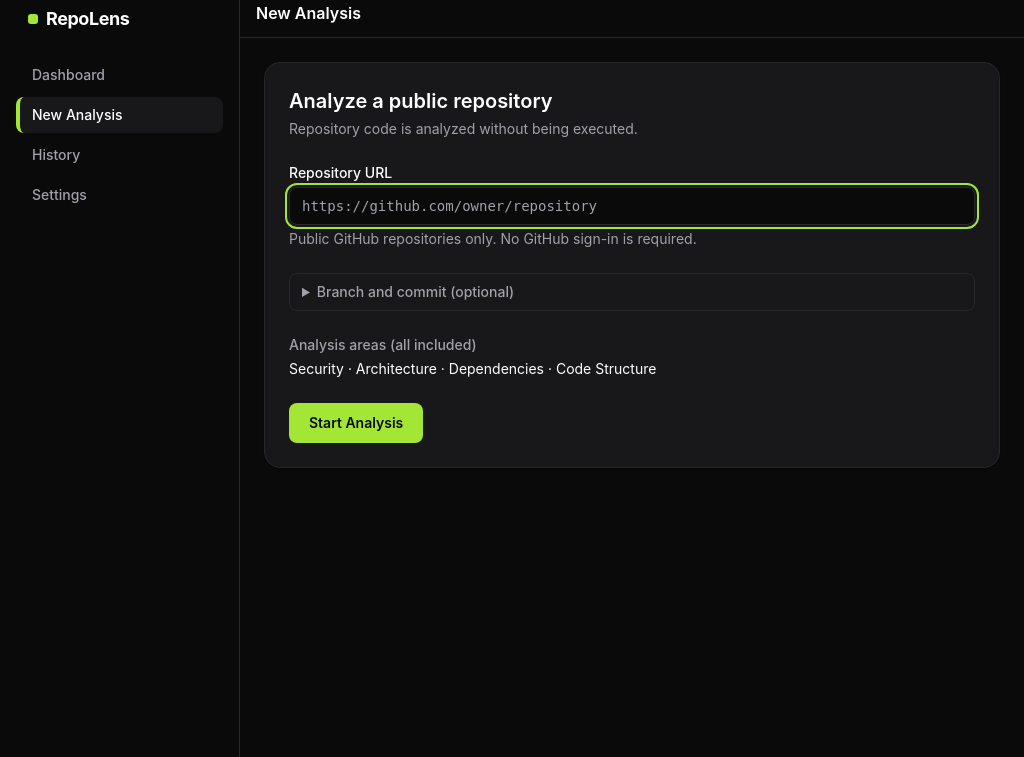
Test: New Analysis form › navigates to the returned analysis id and shows the live terminal
Type "https://github.com/acme/web" into the field labelled "Repository URL" at (632, 206), box [289,187,975,225]
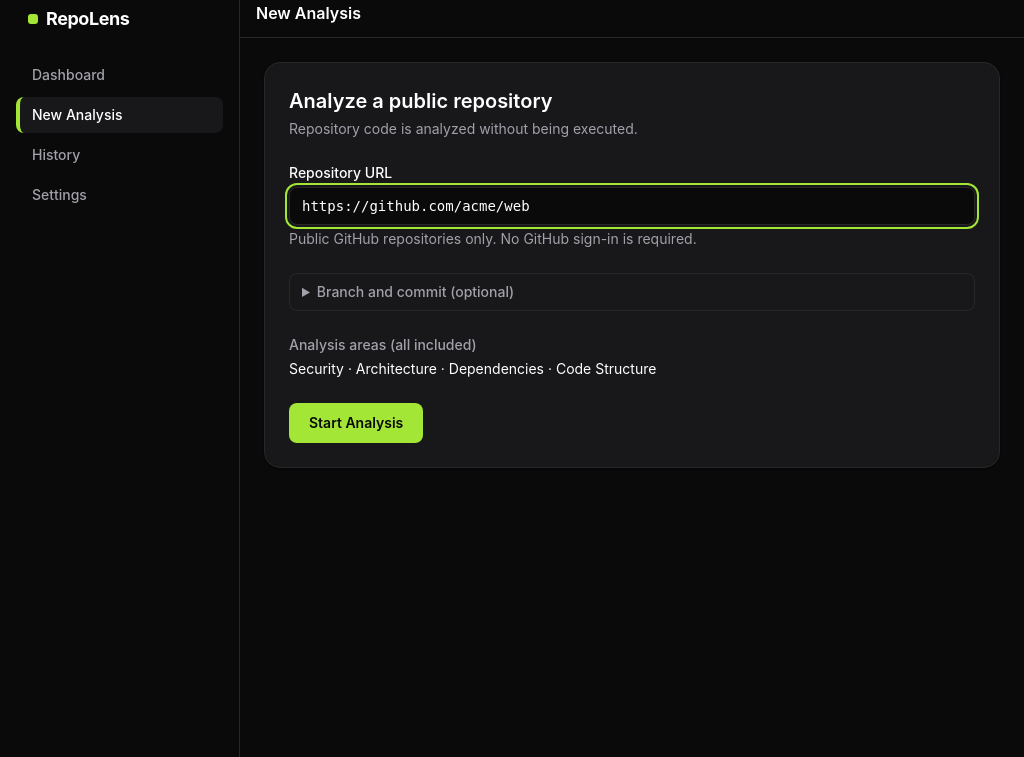
Click the button "Start Analysis" at (356, 423), box [289,403,423,443]
(page scrolled)
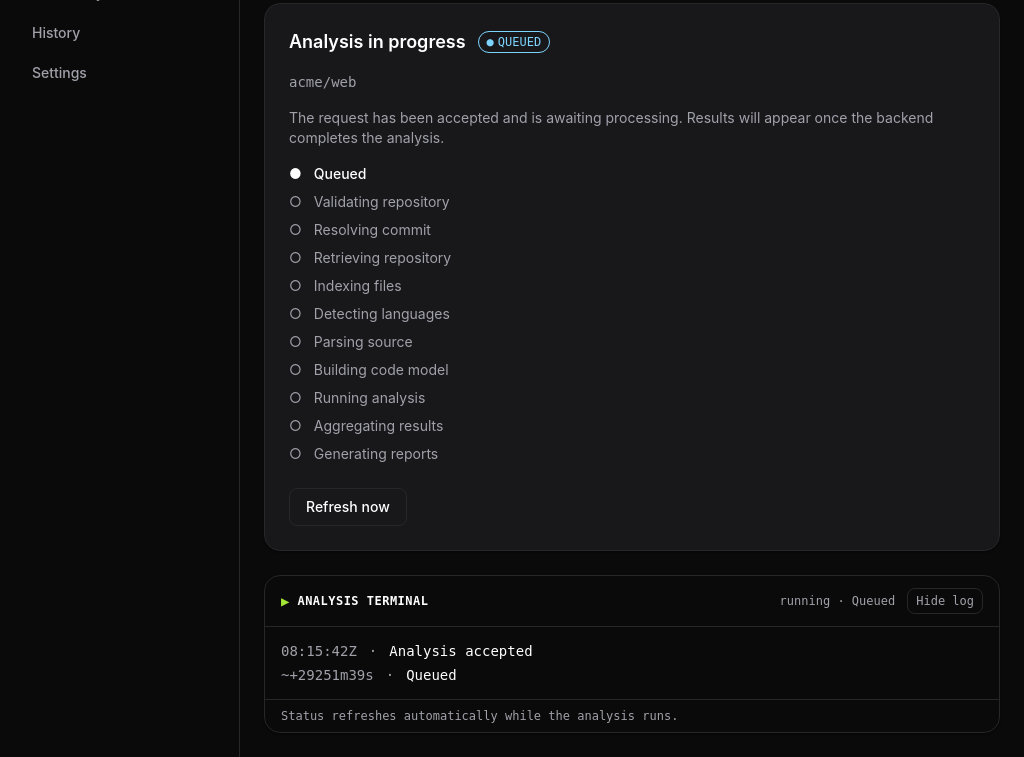
Check: the heading "▶ Analysis terminal" is shown, box [281,591,428,611]
Check: the element showing "08:15:42Z · Analysis accepted ~+29251m39s · Queued" is shown, box [281,643,666,683]
